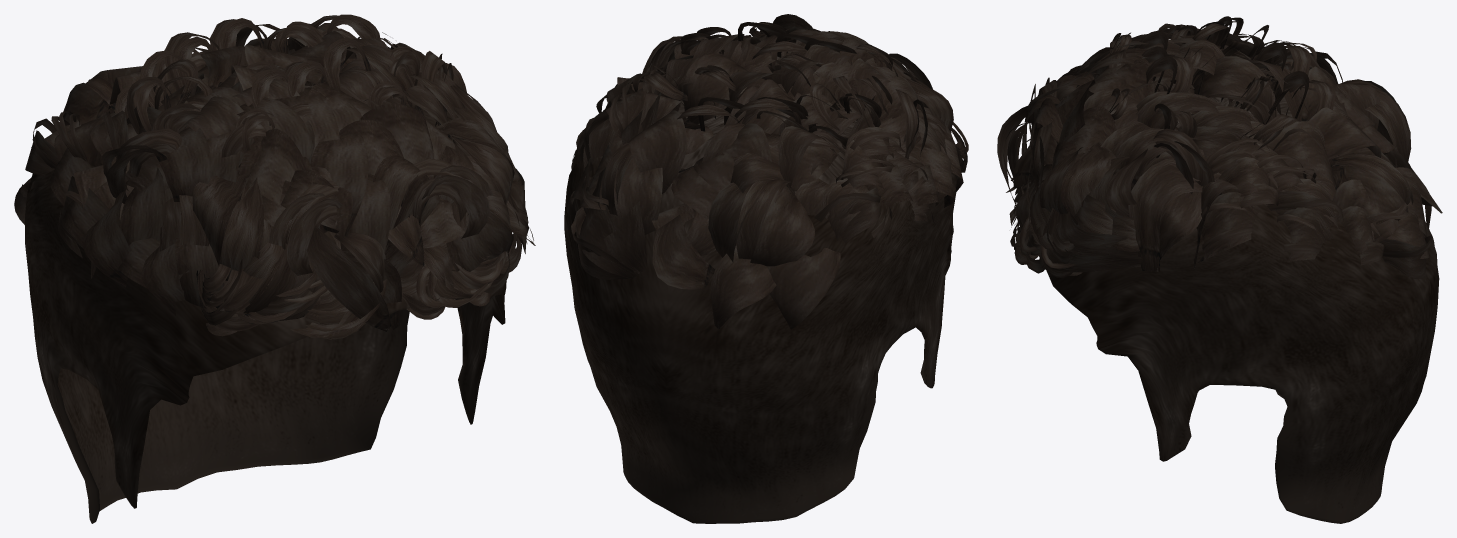
Rendered from Triangle_Curly_HighTopCurls.glb.
3 views of the same model, side by side, from view 1: azimuth 30°, elevation 25°; view 2: azimuth 150°, elevation 25°; view 3: azimuth 270°, elevation 25° (orthographic). The views are drawn at different scales.
Parts seen in each view (by area): view 1: HIGH TOP CURLS, SCALP_NEW.007; view 2: HIGH TOP CURLS, SCALP_NEW.007; view 3: HIGH TOP CURLS, SCALP_NEW.007.
Part boxes in pixels (<box>): HIGH TOP CURLS: <box>14,14,535,339</box>; SCALP_NEW.007: <box>25,85,506,523</box>; HIGH TOP CURLS: <box>567,14,968,329</box>; SCALP_NEW.007: <box>564,100,956,523</box>; HIGH TOP CURLS: <box>997,16,1442,278</box>; SCALP_NEW.007: <box>1039,96,1439,523</box>.
Size of the model in its own units: 0.1981 by 0.2434 by 0.2188.
2 materials, 2 textured.
